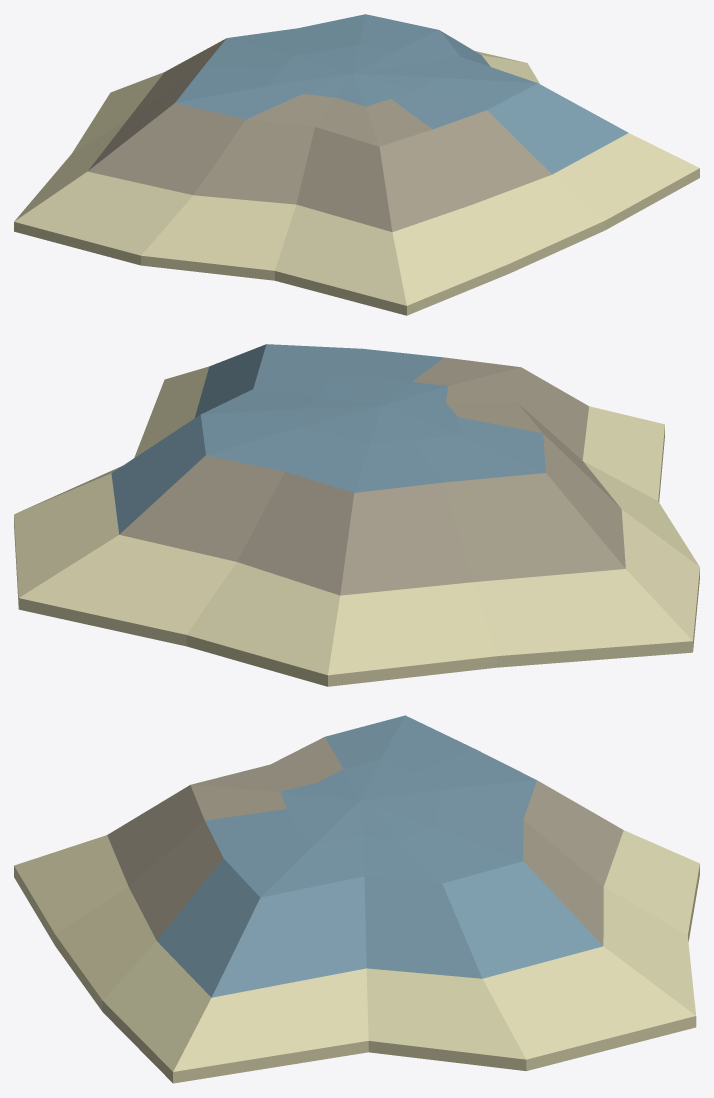
File: terrain_001c_reef_shelf.glb
3 views of the same model, one above another, from view 1: azimuth 30°, elevation 25°; view 2: azimuth 150°, elevation 25°; view 3: azimuth 270°, elevation 25° (orthographic). The views are drawn at different scales.
Parts seen in each view (by area): view 1: terrain_001c_reef_shelf__mesh; view 2: terrain_001c_reef_shelf__mesh; view 3: terrain_001c_reef_shelf__mesh.
Part boxes in pixels (x1,y1,x2,y2): terrain_001c_reef_shelf__mesh: (14, 14, 699, 315); terrain_001c_reef_shelf__mesh: (14, 344, 699, 686); terrain_001c_reef_shelf__mesh: (14, 715, 699, 1083).
Size of the model in its own units: 5.44 by 1.01 by 4.84.
